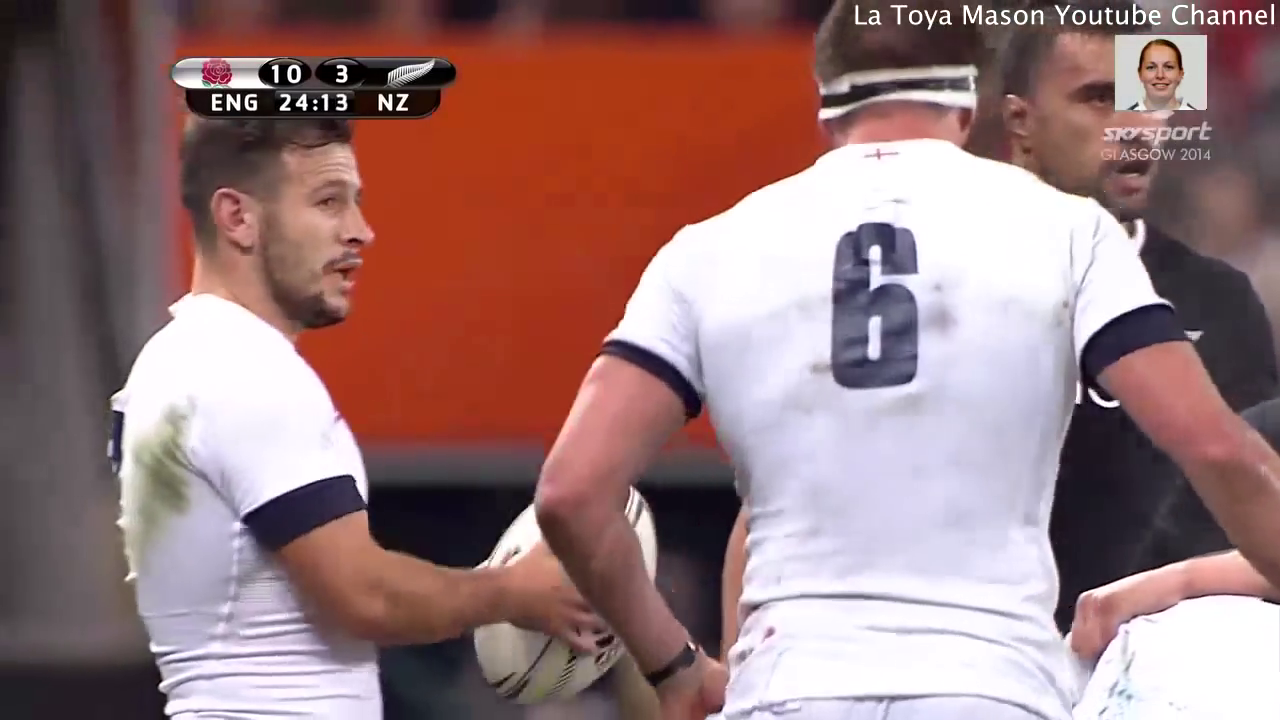ball: (425, 437, 689, 720)
player: (516, 1, 1280, 720), (93, 66, 678, 720), (985, 21, 1280, 599)
